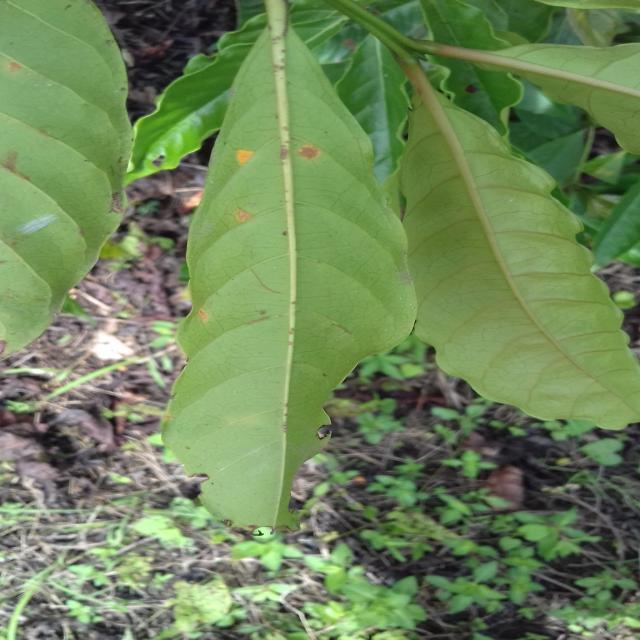Enfermedad-Roya: (159, 34, 413, 532)
